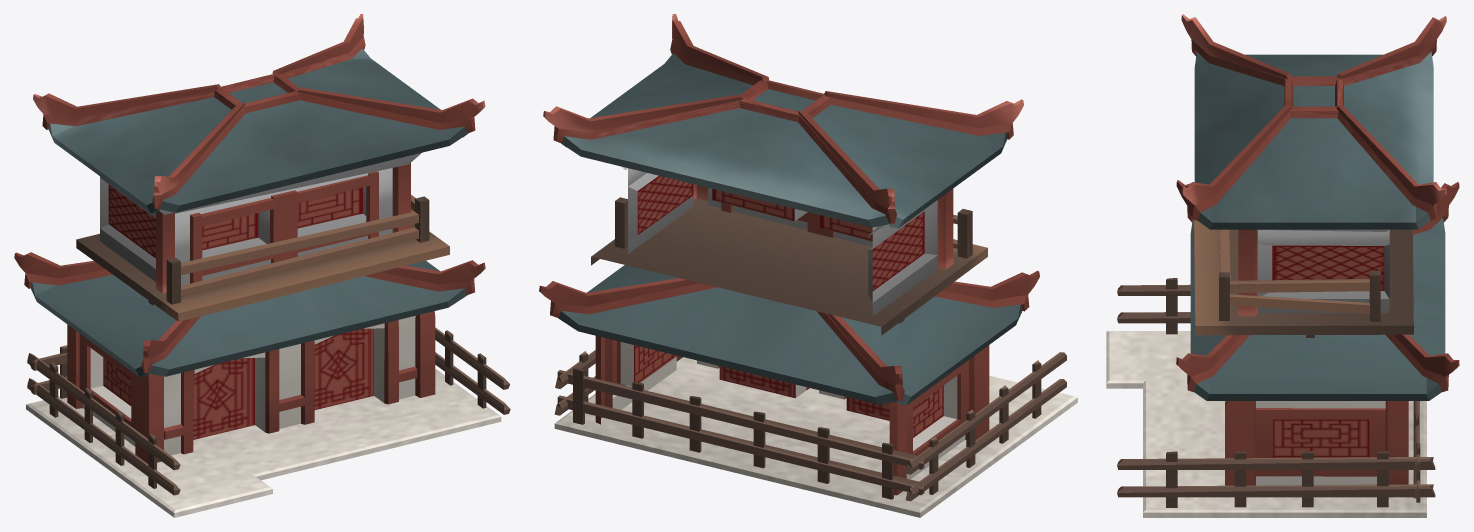
Rendered from camp_2lvl.fbx.
3 views of the same model, side by side, from view 1: azimuth 30°, elevation 25°; view 2: azimuth 150°, elevation 25°; view 3: azimuth 270°, elevation 25° (orthographic). The views are drawn at different scales.
Visible parts, largest first — view 1: camp_2lvl; view 2: camp_2lvl; view 3: camp_2lvl.
Boxes of the visible parts, box(x1,y1,x2,y2) form: camp_2lvl: box(14, 14, 510, 517); camp_2lvl: box(539, 14, 1077, 517); camp_2lvl: box(1106, 14, 1459, 517).
Bounding box in the file's own units: 6.04 × 5.28 × 4.94.
